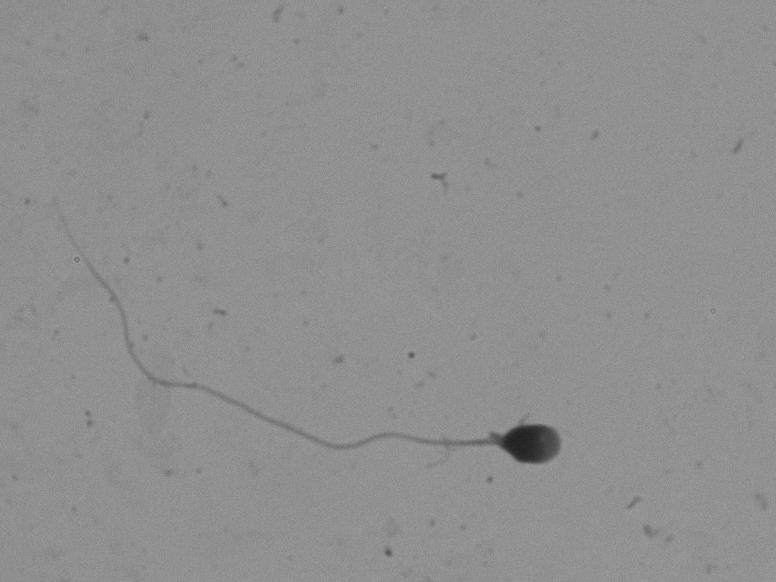Normal: (42, 175, 607, 496)
